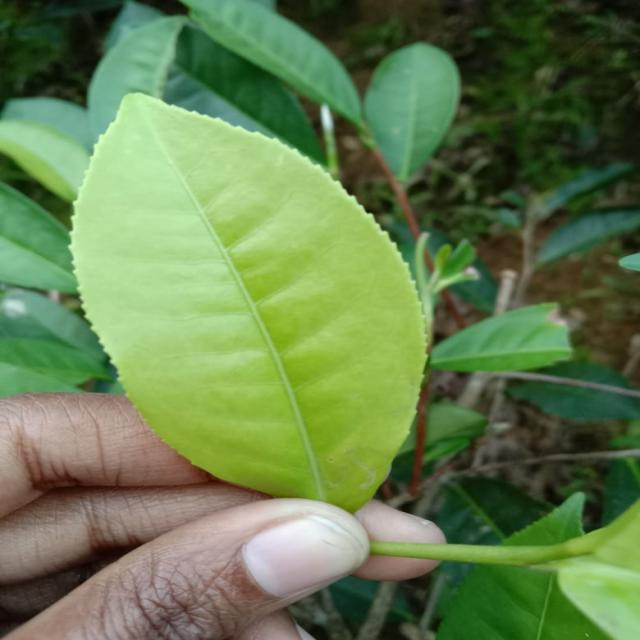Category C(4-7 days): (56, 74, 440, 525)
